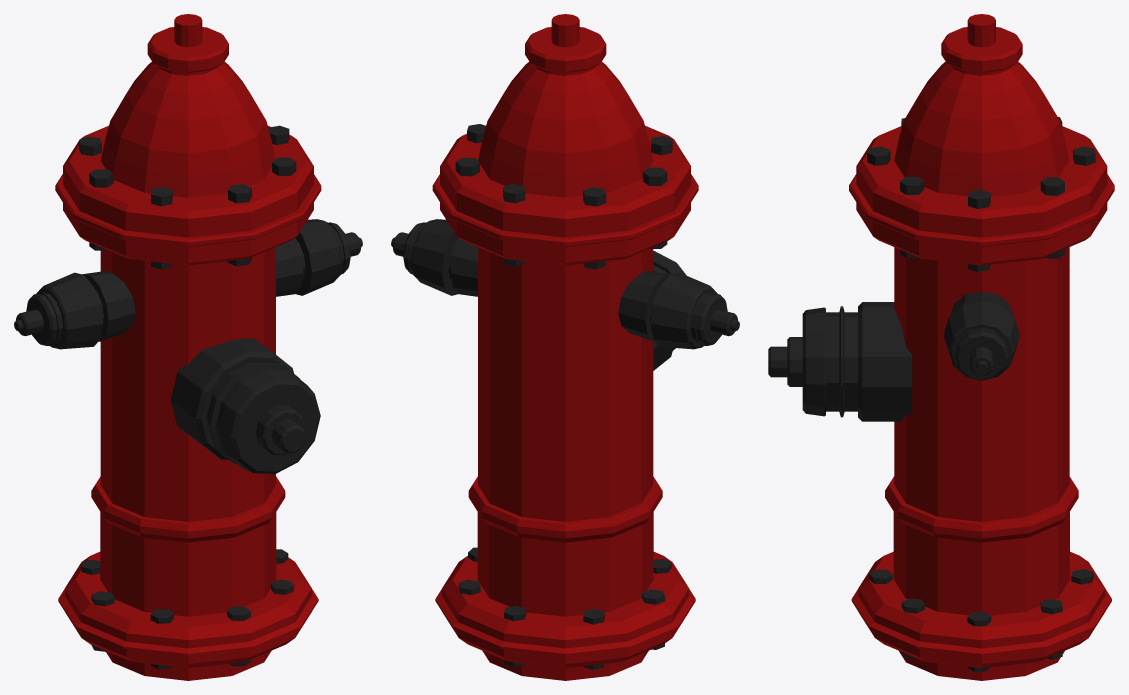
The model's file is fireHydrant.obj.
3 renders of one model, left to right at view 1: azimuth 30°, elevation 25°; view 2: azimuth 150°, elevation 25°; view 3: azimuth 270°, elevation 25°, orthographic.
Parts seen in each view (by area): view 1: fire_hydrant; view 2: fire_hydrant; view 3: fire_hydrant.
Boxes of the visible parts, bbox=[...] form: fire_hydrant: bbox=[14, 14, 362, 680]; fire_hydrant: bbox=[391, 14, 739, 680]; fire_hydrant: bbox=[768, 14, 1114, 680].
Bounding box in the file's own units: 1.38 × 2.39 × 1.2.
